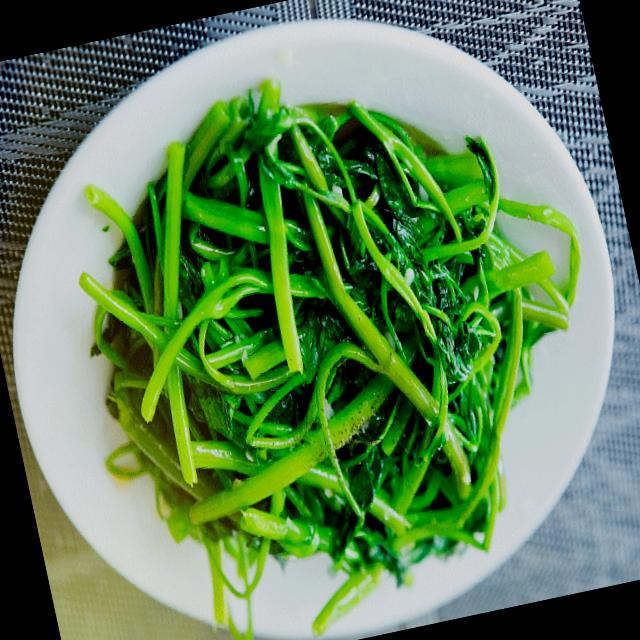rau muong: (79, 81, 579, 634)
